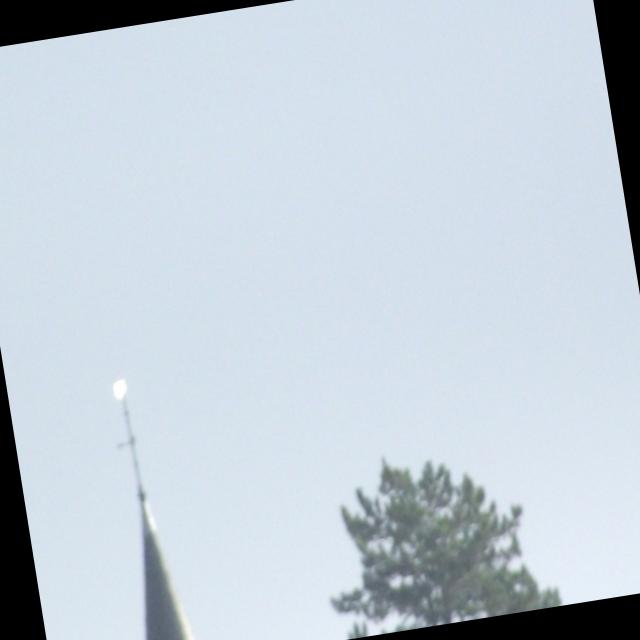rocket: (112, 381, 164, 604)
